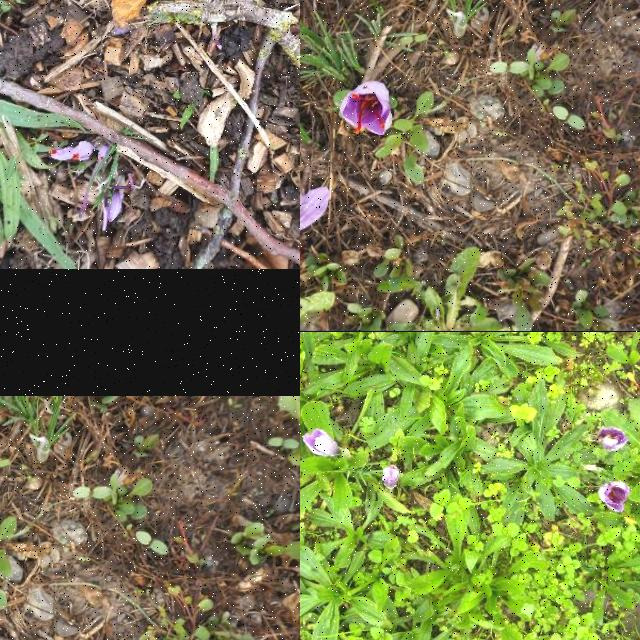flower: (338, 80, 394, 136), (303, 429, 341, 457), (598, 481, 630, 513), (596, 426, 630, 452), (106, 188, 124, 222), (50, 142, 74, 162), (72, 142, 95, 162), (382, 465, 400, 489)
